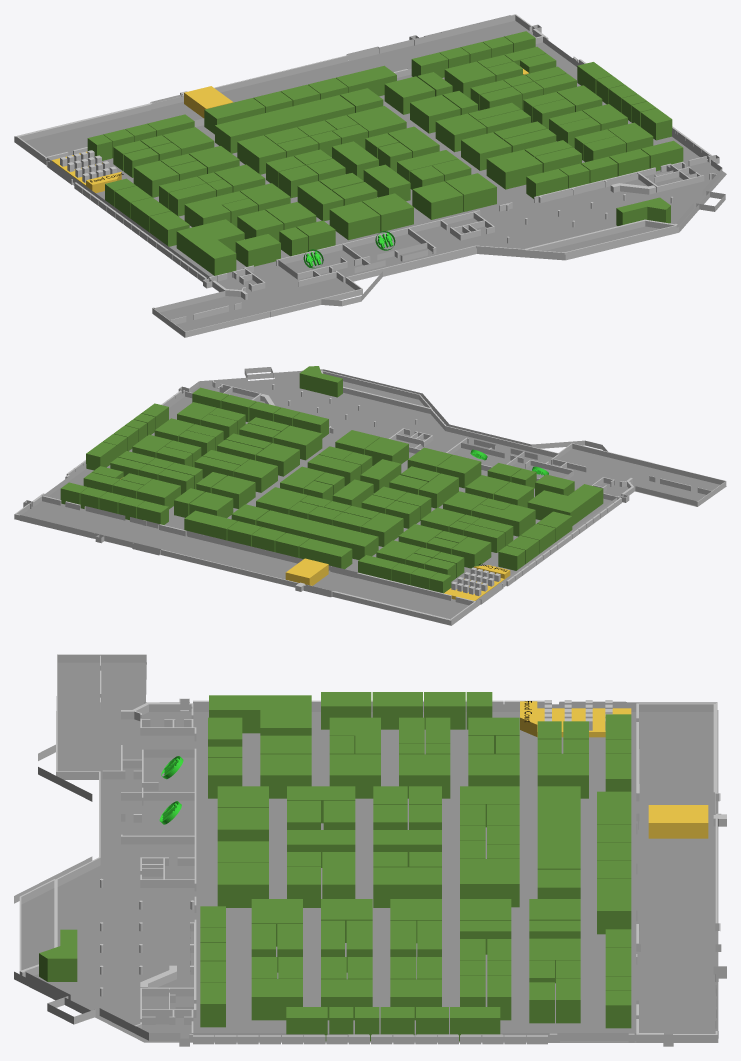
Rendered from Hall_E_3.glb.
The picture shows the model from 3 angles, top to bottom: view 1: azimuth 30°, elevation 25°; view 2: azimuth 150°, elevation 25°; view 3: azimuth 270°, elevation 25°; orthographic projection. The views are drawn at different scales.
Visible parts, largest first — view 1: Background_curve_, Building_curve_, BOOTHLAYER_curve_.E-2050, BOOTHLAYER_curve_.E-6000, BOOTHLAYER_curve_.E-6200, BOOTHLAYER_curve_.E-6130, BOOTHLAYER_curve_.E-6100, BOOTHLAYER_curve_.E-5020, BOOTHLAYER_curve_.E-4200, BOOTHLAYER_curve_.E-6150, BOOTHLAYER_curve_.E-6120, BOOTHLAYER_curve_.E-3200 (+64 smaller); view 2: Background_curve_, Building_curve_, BOOTHLAYER_curve_.E-2050, BOOTHLAYER_curve_.E-6000, BOOTHLAYER_curve_.E-5020, BOOTHLAYER_curve_.E-1030, BOOTHLAYER_curve_.E-6200, BOOTHLAYER_curve_.E-1060, BOOTHLAYER_curve_.E-7000, BOOTHLAYER_curve_.E-4200, BOOTHLAYER_curve_.E-3200, BOOTHLAYER_curve_.E-3100 (+59 smaller); view 3: Background_curve_, Building_curve_, BOOTHLAYER_curve_.E-2050, BOOTHLAYER_curve_.E-6000, BOOTHLAYER_curve_.E-3150, BOOTHLAYER_curve_.E-4180, BOOTHLAYER_curve_.E-6150, Logistics, BOOTHLAYER_curve_.E-6270, BOOTHLAYER_curve_.E-5060, BOOTHLAYER_curve_.E-6050, BOOTHLAYER_curve_.E-2020 (+68 smaller).
Part boxes in pixels (x1,y1,x2,y2): Background_curve_: (14, 20, 726, 337); Building_curve_: (14, 14, 725, 337); BOOTHLAYER_curve_.E-2050: (215, 95, 354, 153); BOOTHLAYER_curve_.E-6000: (176, 219, 244, 275); BOOTHLAYER_curve_.E-6200: (486, 149, 542, 189); BOOTHLAYER_curve_.E-6130: (412, 181, 463, 219); BOOTHLAYER_curve_.E-6100: (329, 201, 380, 240); BOOTHLAYER_curve_.E-5020: (184, 191, 248, 227); BOOTHLAYER_curve_.E-4200: (435, 113, 486, 152); BOOTHLAYER_curve_.E-6150: (445, 173, 496, 211); BOOTHLAYER_curve_.E-6120: (362, 193, 413, 231); BOOTHLAYER_curve_.E-3200: (410, 95, 460, 133); Background_curve_: (15, 378, 726, 625); Building_curve_: (14, 367, 726, 625); BOOTHLAYER_curve_.E-2050: (256, 510, 378, 559); BOOTHLAYER_curve_.E-6000: (527, 484, 603, 525); BOOTHLAYER_curve_.E-5020: (471, 504, 535, 536); BOOTHLAYER_curve_.E-1030: (299, 538, 352, 569); BOOTHLAYER_curve_.E-6200: (273, 425, 322, 460); BOOTHLAYER_curve_.E-1060: (184, 510, 237, 540); BOOTHLAYER_curve_.E-7000: (299, 366, 342, 397); BOOTHLAYER_curve_.E-4200: (233, 459, 277, 492); BOOTHLAYER_curve_.E-3200: (211, 475, 255, 508); BOOTHLAYER_curve_.E-3100: (361, 513, 403, 546); Background_curve_: (21, 662, 718, 1042); Building_curve_: (14, 654, 726, 1046); BOOTHLAYER_curve_.E-2050: (537, 786, 580, 869); BOOTHLAYER_curve_.E-6000: (209, 695, 311, 735); BOOTHLAYER_curve_.E-3150: (460, 859, 519, 907); BOOTHLAYER_curve_.E-4180: (373, 867, 441, 907); BOOTHLAYER_curve_.E-6150: (217, 863, 268, 907); Logistics: (648, 805, 708, 838); BOOTHLAYER_curve_.E-6270: (251, 979, 302, 1020); BOOTHLAYER_curve_.E-5060: (329, 754, 380, 798); BOOTHLAYER_curve_.E-6050: (260, 754, 311, 798); BOOTHLAYER_curve_.E-2020: (537, 753, 588, 798).
Size of the model in its own units: 106 by 3.3 by 83.28.
